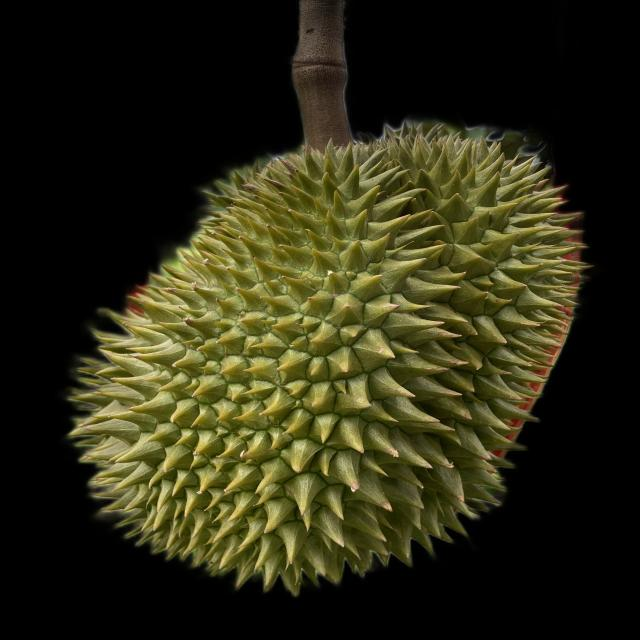immature: (69, 129, 588, 594)
